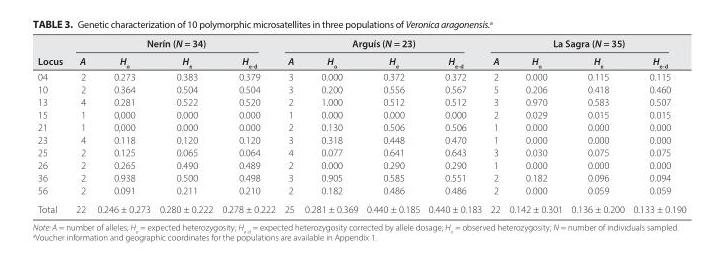table: (37, 36, 685, 214)
table column: (90, 36, 154, 214), (216, 36, 279, 214), (298, 36, 361, 214), (154, 36, 216, 214), (361, 36, 423, 214), (423, 36, 485, 214), (504, 36, 566, 214), (566, 36, 628, 214), (628, 36, 685, 214), (37, 36, 68, 214), (68, 36, 90, 214), (279, 36, 298, 214), (485, 36, 504, 214)
table column header: (37, 36, 685, 69)
table row: (37, 51, 685, 69), (37, 183, 685, 199), (37, 36, 685, 51), (37, 199, 685, 214), (37, 69, 685, 82), (37, 94, 685, 107), (37, 107, 685, 120), (37, 132, 685, 145), (37, 145, 685, 158), (37, 170, 685, 183), (37, 82, 685, 94), (37, 120, 685, 132), (37, 158, 685, 170)
table spanning cell: (68, 36, 279, 51), (279, 36, 485, 51), (485, 36, 685, 51), (37, 36, 68, 69)
